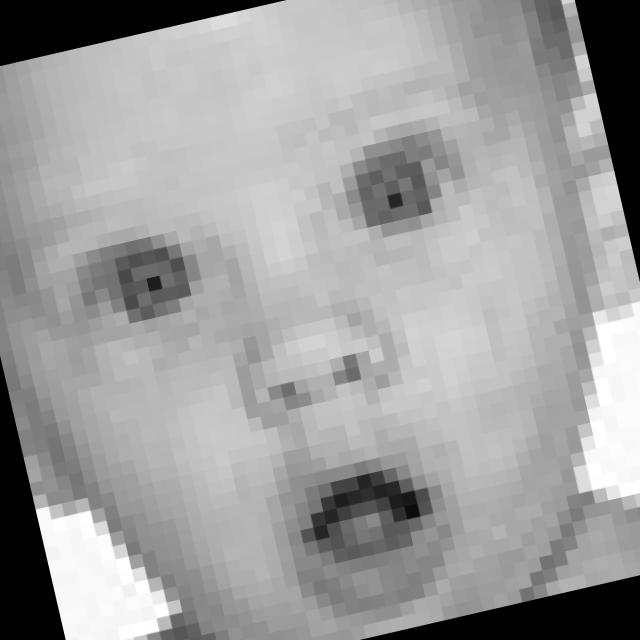surprise: (3, 62, 578, 640)
